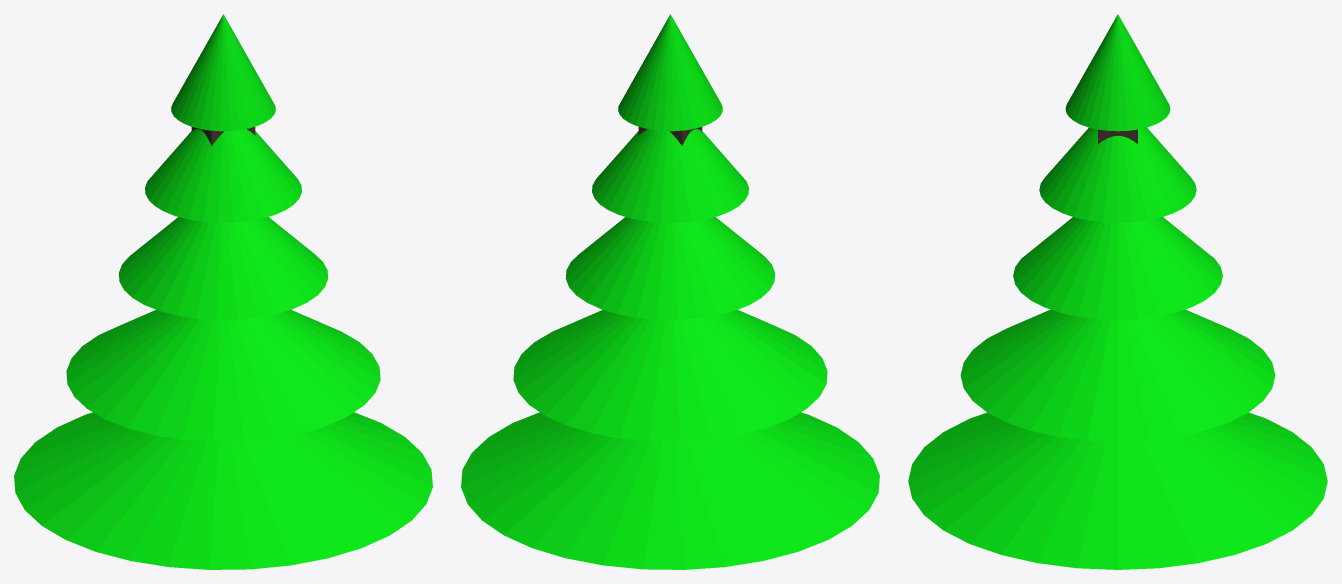
File: Tree_green.fbx
3 views of the same model, side by side, from view 1: azimuth 30°, elevation 25°; view 2: azimuth 150°, elevation 25°; view 3: azimuth 270°, elevation 25° (orthographic).
Visible parts, largest first — view 1: Tree green; view 2: Tree green; view 3: Tree green.
Part boxes in pixels (box(x1,y1,x2,y2)): Tree green: box(14, 14, 432, 569); Tree green: box(461, 14, 879, 569); Tree green: box(908, 14, 1327, 569).
Size of the model in its own units: 800 by 1098 by 800.
